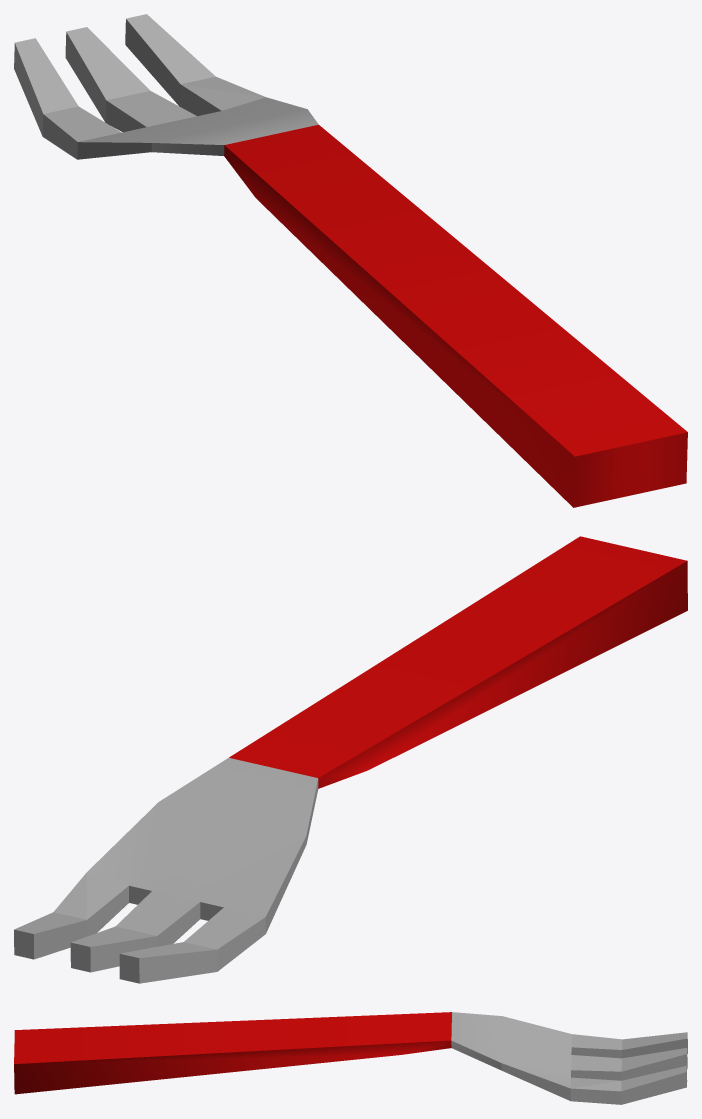
Rendered from Fork_Red.fbx.
3 renders of one model, top to bottom at view 1: azimuth 30°, elevation 25°; view 2: azimuth 150°, elevation 25°; view 3: azimuth 270°, elevation 25°, orthographic. The views are drawn at different scales.
Parts seen in each view (by area): view 1: Fork_Red; view 2: Fork_Red; view 3: Fork_Red.
Part boxes in pixels (<box>): Fork_Red: <box>14,14,687,507</box>; Fork_Red: <box>14,536,687,983</box>; Fork_Red: <box>14,1012,687,1104</box>.
Size of the model in its own units: 3.01 by 1.41 by 15.72.
